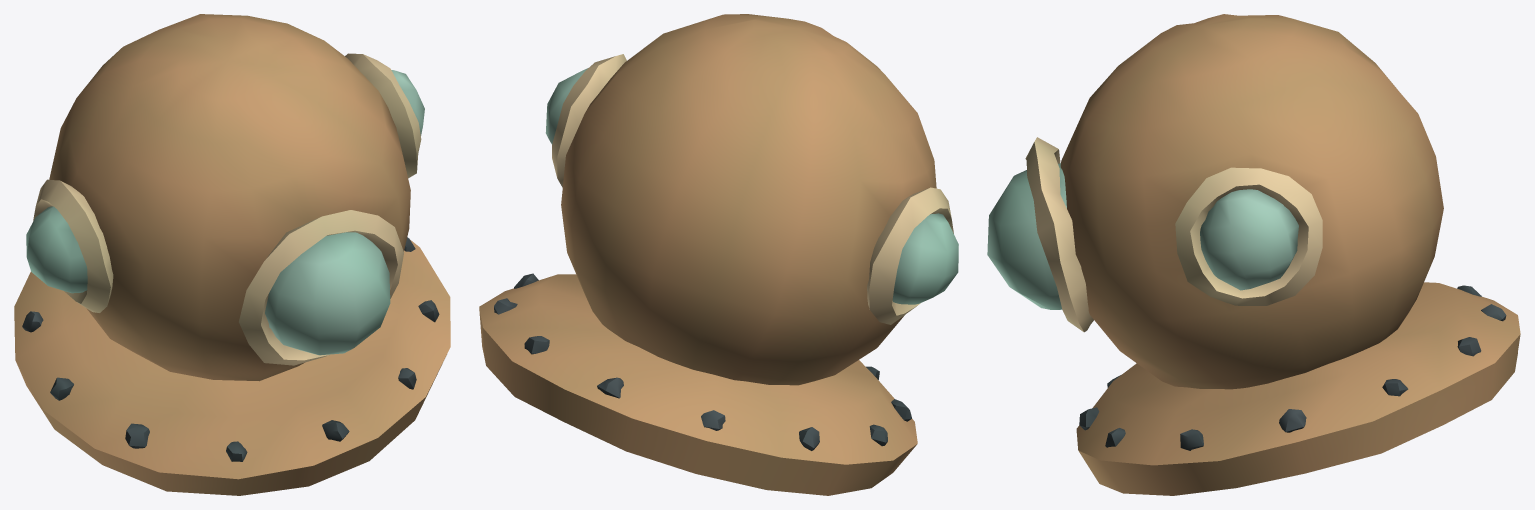
Rendered from find_helmet.glb.
3 renders of one model, left to right at view 1: azimuth 30°, elevation 25°; view 2: azimuth 150°, elevation 25°; view 3: azimuth 270°, elevation 25°, orthographic. The views are drawn at different scales.
Visible parts, largest first — view 1: find_helmet; view 2: find_helmet; view 3: find_helmet.
Part boxes in pixels (x1,y1,x2,y2): find_helmet: (14, 14, 450, 495); find_helmet: (479, 14, 958, 495); find_helmet: (987, 14, 1520, 495).
Size of the model in its own units: 0.7698 by 0.7353 by 0.8235.
